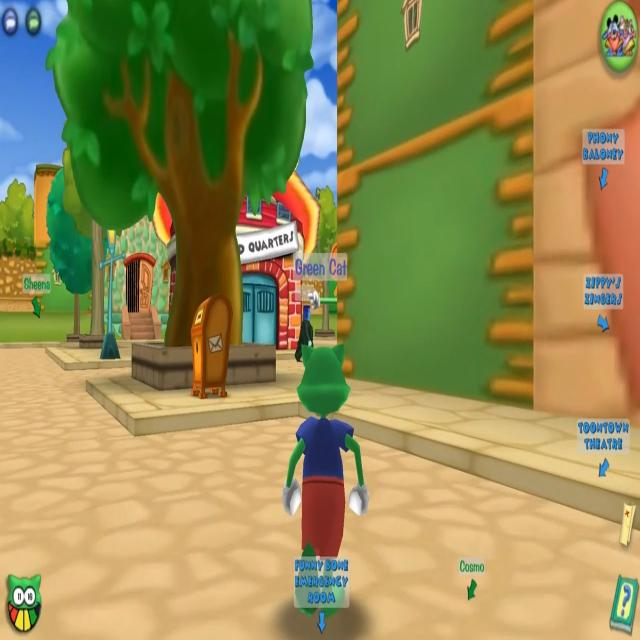shortchange: (293, 289, 324, 368)
